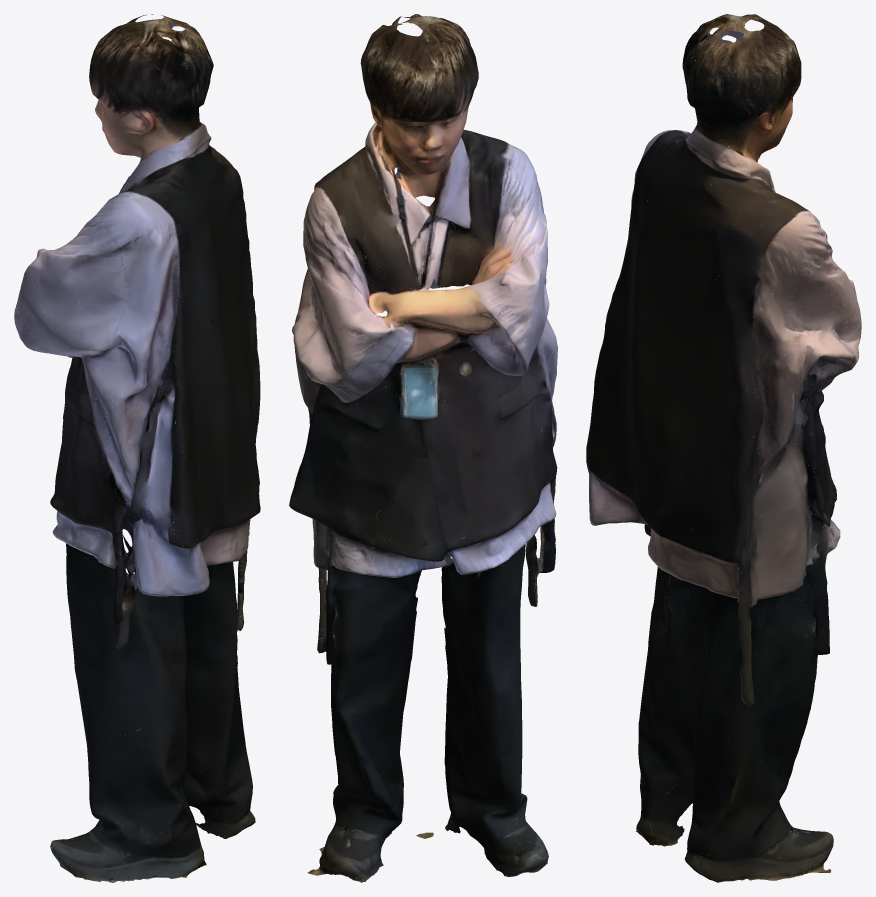
File: anzo-comp.glb
The picture shows the model from 3 angles, left to right: view 1: azimuth 30°, elevation 25°; view 2: azimuth 150°, elevation 25°; view 3: azimuth 270°, elevation 25°; orthographic projection. The views are drawn at different scales.
Size of the model in its own units: 0.9715 by 3.28 by 0.9934.
7 materials, 7 textured.
